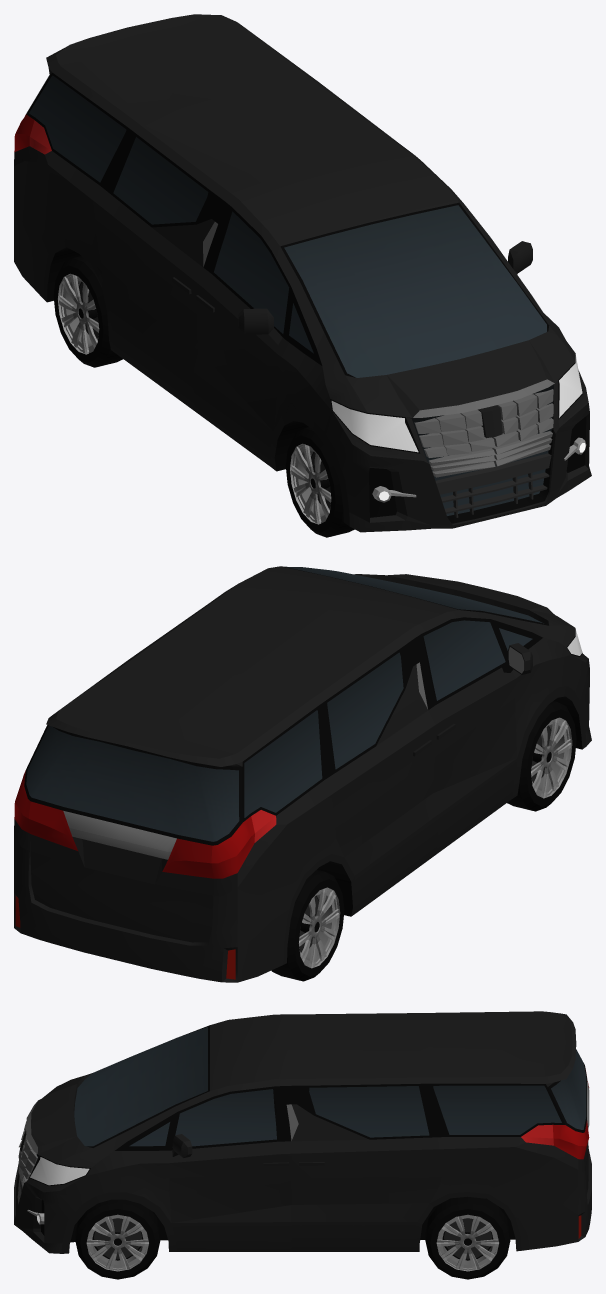
The model's file is Simple_Japanese_Car_V2.fbx.
The picture shows the model from 3 angles, top to bottom: view 1: azimuth 30°, elevation 25°; view 2: azimuth 150°, elevation 25°; view 3: azimuth 270°, elevation 25°; orthographic projection. The views are drawn at different scales.
Visible parts, largest first — view 1: Body, RR, FR; view 2: Body, RR, FR; view 3: Body, RL, FL.
Part boxes in pixels (<box>): Body: <box>14,14,591,532</box>; RR: <box>53,256,122,367</box>; FR: <box>285,427,354,537</box>; Body: <box>14,566,591,982</box>; RR: <box>271,870,344,981</box>; FR: <box>507,701,576,811</box>; Body: <box>14,1011,591,1253</box>; RL: <box>425,1196,510,1279</box>; FL: <box>75,1199,160,1279</box>.
Size of the model in its own units: 2.16 by 1.82 by 4.91.
Materials: 2 (2 with a texture image).
